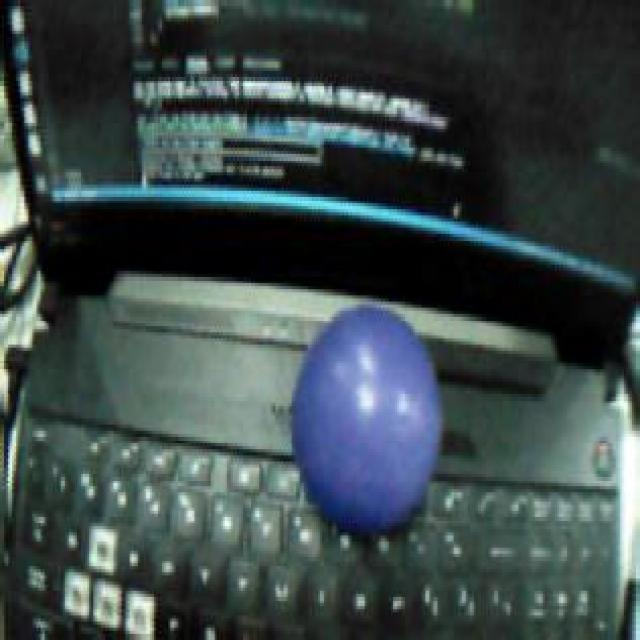BallPurple: (287, 302, 442, 538)
